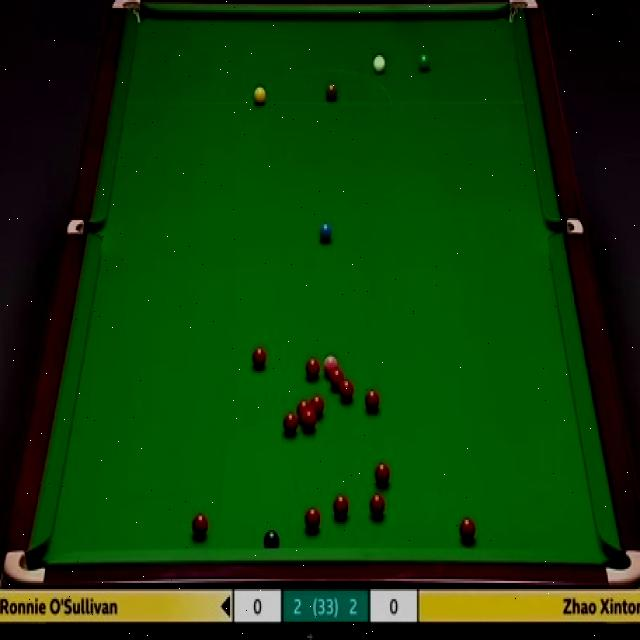black-ball: (263, 528, 280, 552)
blue-ball: (319, 223, 333, 243)
brown-ball: (324, 83, 337, 102)
green-ball: (417, 52, 432, 73)
pink-ball: (323, 352, 338, 376)
red-ball: (459, 516, 477, 544), (368, 492, 386, 520), (373, 461, 391, 488), (303, 507, 322, 532), (333, 492, 350, 518), (250, 344, 266, 370), (191, 512, 208, 536), (339, 380, 354, 406), (282, 411, 298, 435), (305, 355, 320, 380), (365, 388, 380, 412), (311, 394, 326, 417), (302, 407, 316, 431), (328, 368, 344, 388), (297, 399, 311, 417)
white-ball: (372, 52, 386, 74)
yellow-ball: (253, 83, 266, 106)
